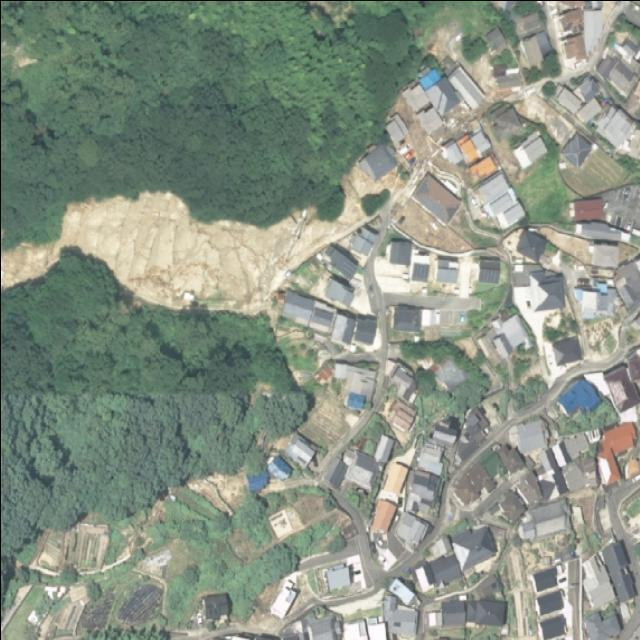landslide: (0, 191, 357, 312)
